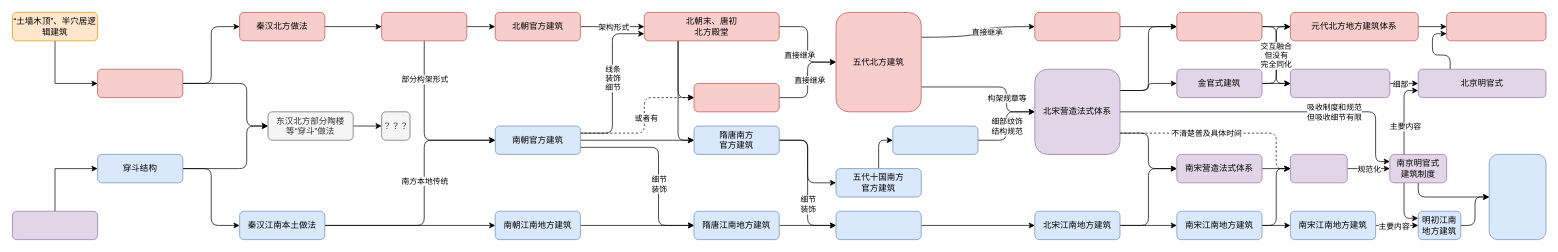
Image size: 1558x252. Some labels were removed from this diagram. The shapes that lost their labels are listed below. From the top down, each one's box as (x1, y1, x2, y2) in pixels, then its label:
(381, 12, 467, 41): 魏晋北方建筑
(1034, 12, 1120, 41): 辽代北方营造传统
(1176, 12, 1262, 41): 金代地方建筑
(1446, 12, 1546, 41): 明代北方地方 营造系统
(97, 69, 183, 98): 井干架构
(693, 83, 779, 112): 北朝末、唐初 北方厅堂
(1290, 69, 1390, 98): 元代“大都样”
(892, 125, 978, 154): 江淮地方营造传统
(1290, 154, 1347, 183): 元代两淮地方建筑
(1489, 154, 1546, 240): 明代江南 地方建筑
(12, 211, 98, 240): 木骨泥墙、干栏剿居逻辑建筑
(835, 211, 921, 240): 五代十国江南 地方建筑
